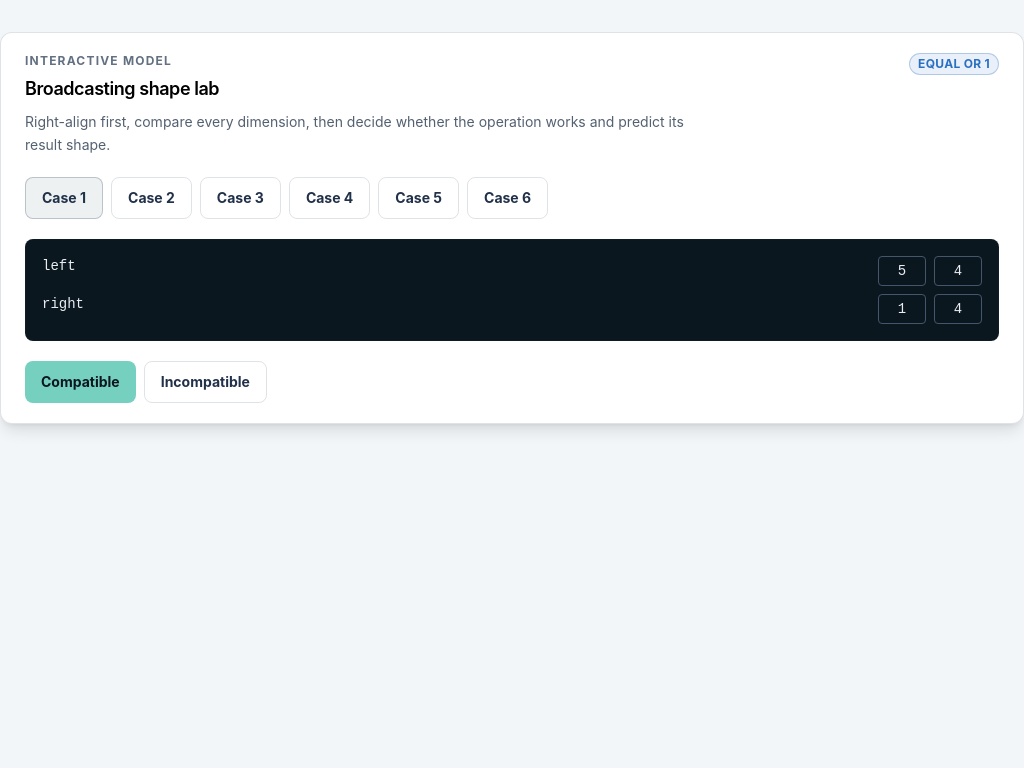
Test: broadcasting interactives › treats an incompatibility prediction as terminal
Click the button "Case 5" at (419, 198), box [378,176,459,218]
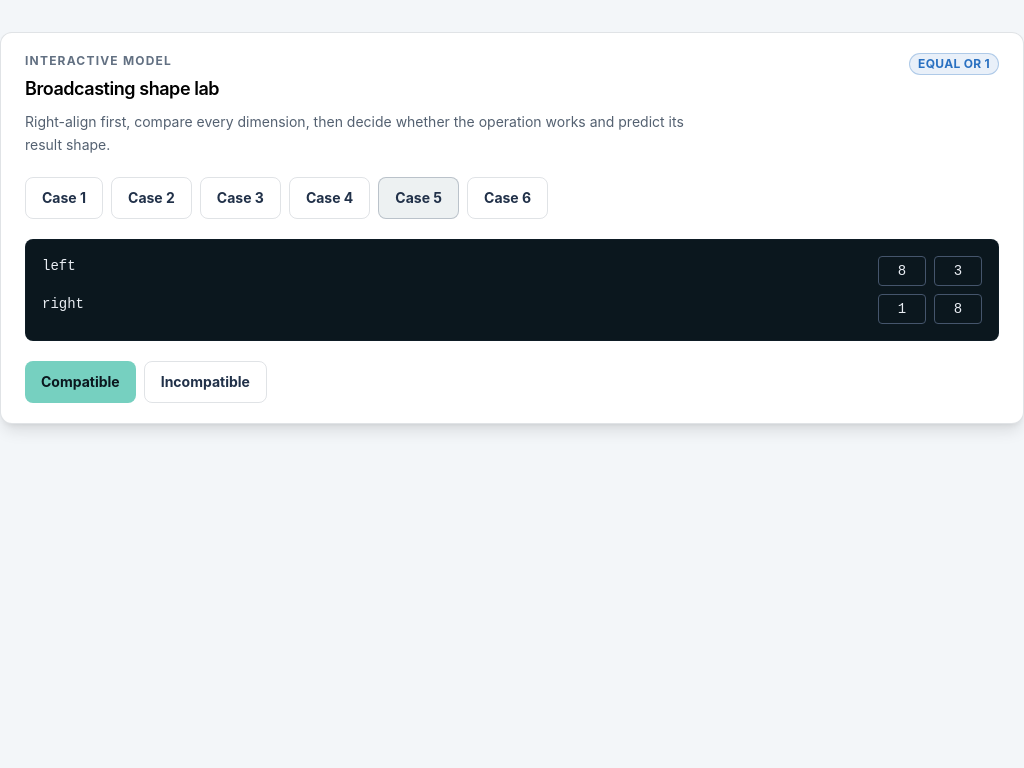
Click the button "Incompatible" at (205, 382), box [144,360,267,402]
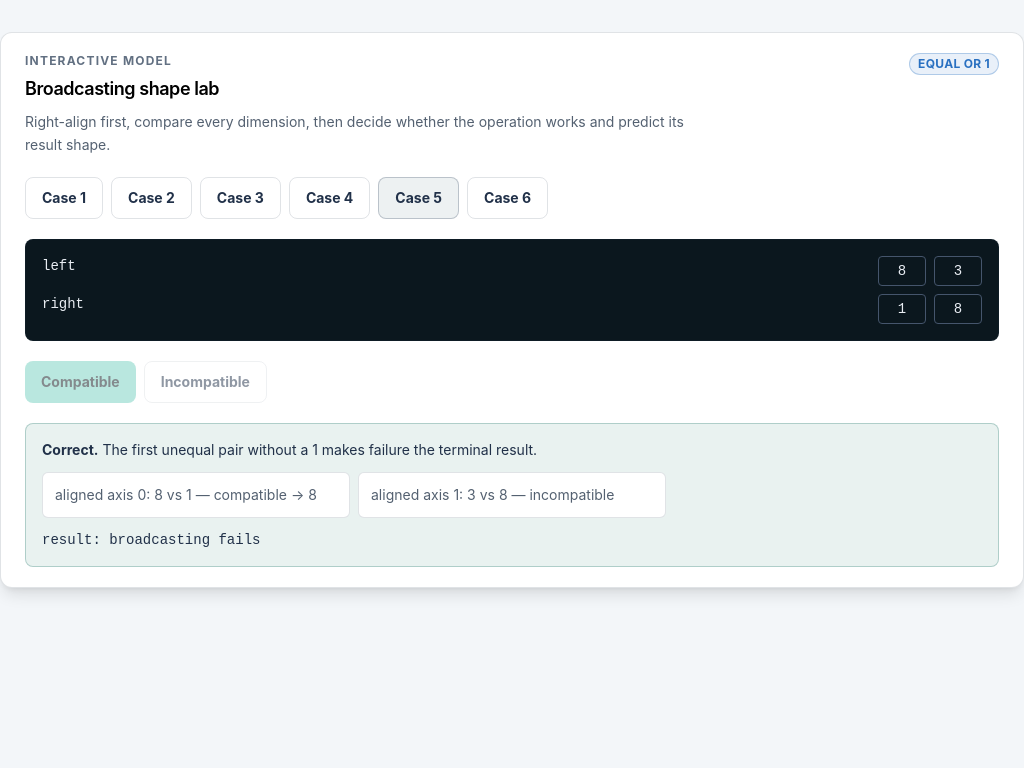
Now the message shows "broadcasting fails", box [109,532,260,548]
Now the message shows "3 vs 8", box [25,422,999,566]
